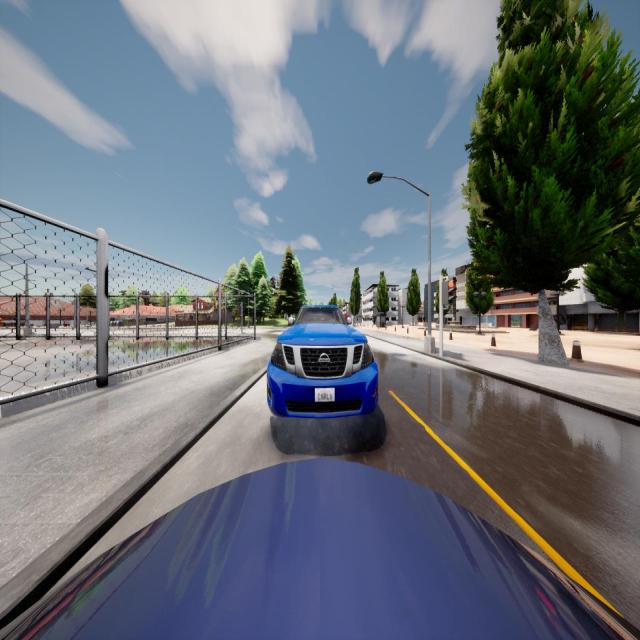Vehicle: (0, 461, 640, 640), (266, 305, 378, 417)
traffic_light: (442, 280, 456, 306)
